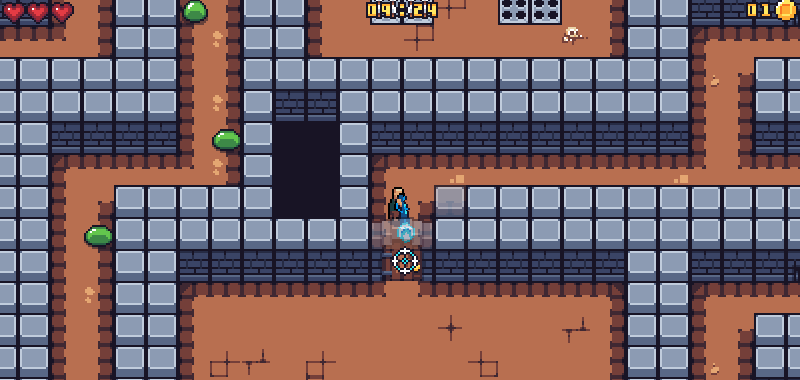door: (367, 217, 438, 283)
enemy_slug: (83, 222, 115, 249), (210, 126, 243, 151), (180, 1, 209, 24)
